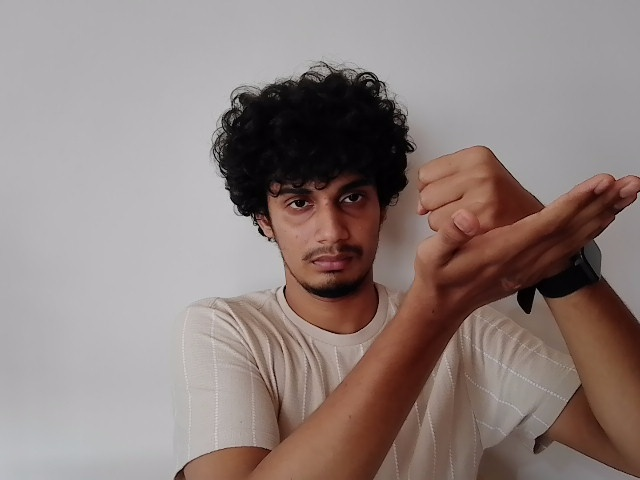help: (418, 141, 640, 320)
